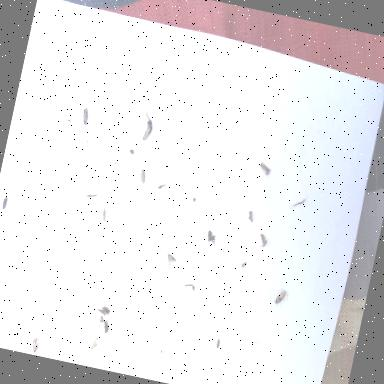pbw: (78, 102, 94, 131), (267, 287, 286, 308), (256, 232, 268, 249), (136, 167, 147, 185), (258, 160, 272, 174), (164, 253, 178, 267), (141, 124, 151, 140), (30, 336, 39, 353), (205, 229, 214, 243), (100, 207, 108, 222), (1, 194, 8, 210), (215, 338, 220, 348)
